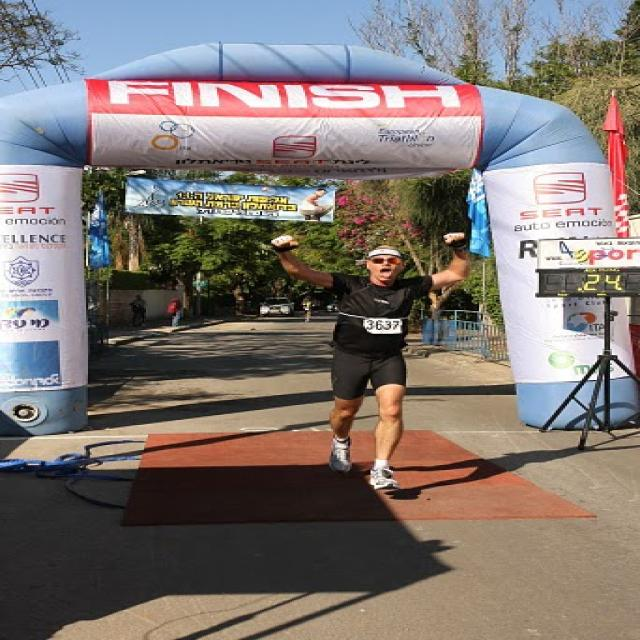Bib: (365, 321, 398, 334)
